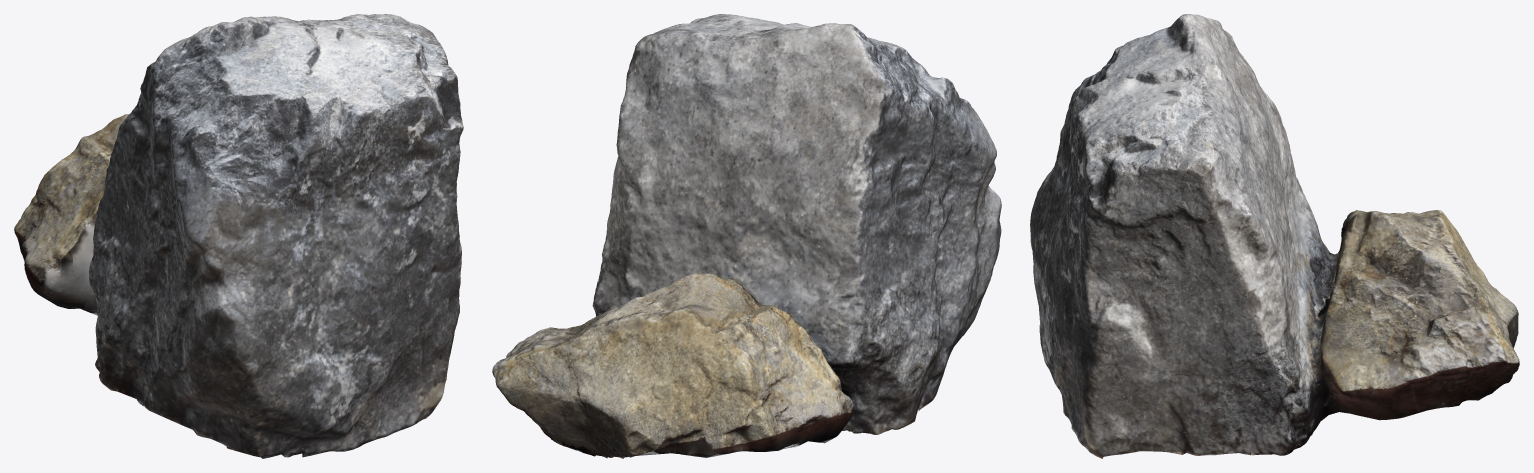
Rendered from sparse3.glb.
3 views of the same model, side by side, from view 1: azimuth 30°, elevation 25°; view 2: azimuth 150°, elevation 25°; view 3: azimuth 270°, elevation 25° (orthographic). The views are drawn at different scales.
Size of the model in its own units: 2.54 by 3.05 by 3.66.
1 material, 1 textured.
